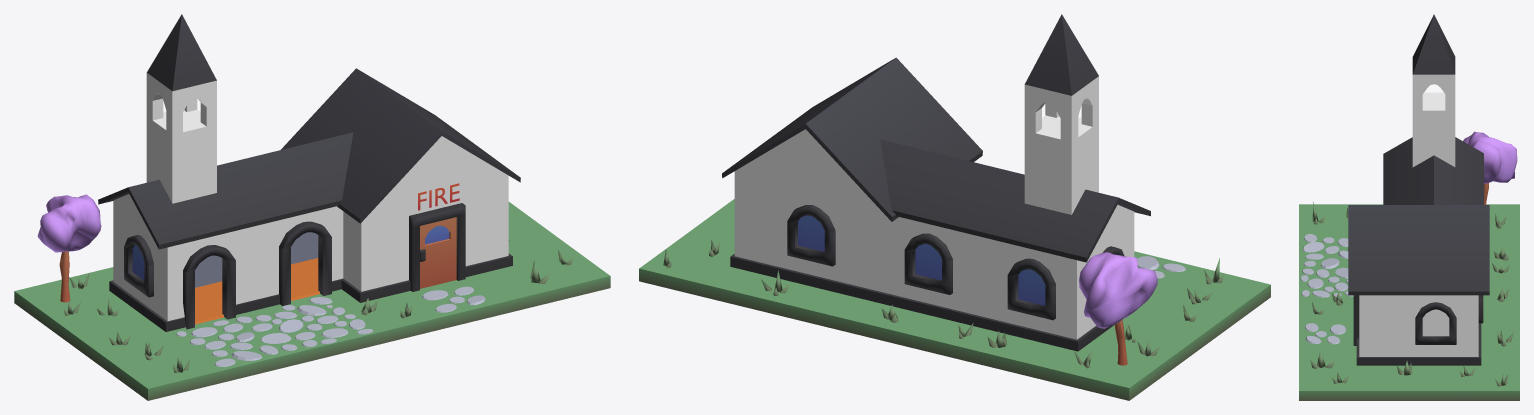
The model's file is fire_station.glb.
3 views of the same model, side by side, from view 1: azimuth 30°, elevation 25°; view 2: azimuth 150°, elevation 25°; view 3: azimuth 270°, elevation 25° (orthographic). The views are drawn at different scales.
Visible parts, largest first — view 1: fire_station; view 2: fire_station; view 3: fire_station.
Boxes of the visible parts, x1=… form: fire_station: x1=14, y1=14, x2=610, y2=400; fire_station: x1=639, y1=14, x2=1270, y2=400; fire_station: x1=1299, y1=14, x2=1519, y2=400.
Bounding box in the file's own units: 2 × 1.24 × 1.
1 material, 1 textured.
